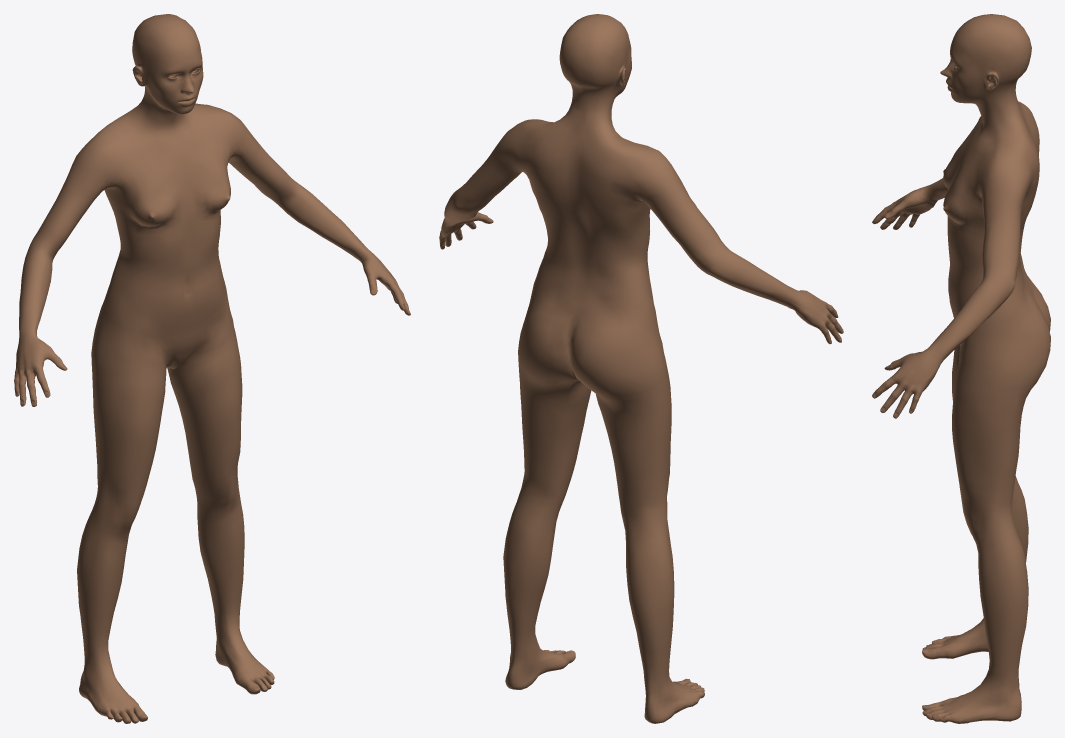
3 views of the same model, side by side, from view 1: azimuth 30°, elevation 25°; view 2: azimuth 150°, elevation 25°; view 3: azimuth 270°, elevation 25° (orthographic).
Parts seen in each view (by area): view 1: base.obj; view 2: base.obj; view 3: base.obj.
Boxes of the visible parts, x1,y1,x2,y2 form: base.obj: [14, 14, 410, 723]; base.obj: [439, 14, 843, 723]; base.obj: [872, 14, 1050, 723].
Size of the model in its own units: 10.96 by 18 by 4.37.
